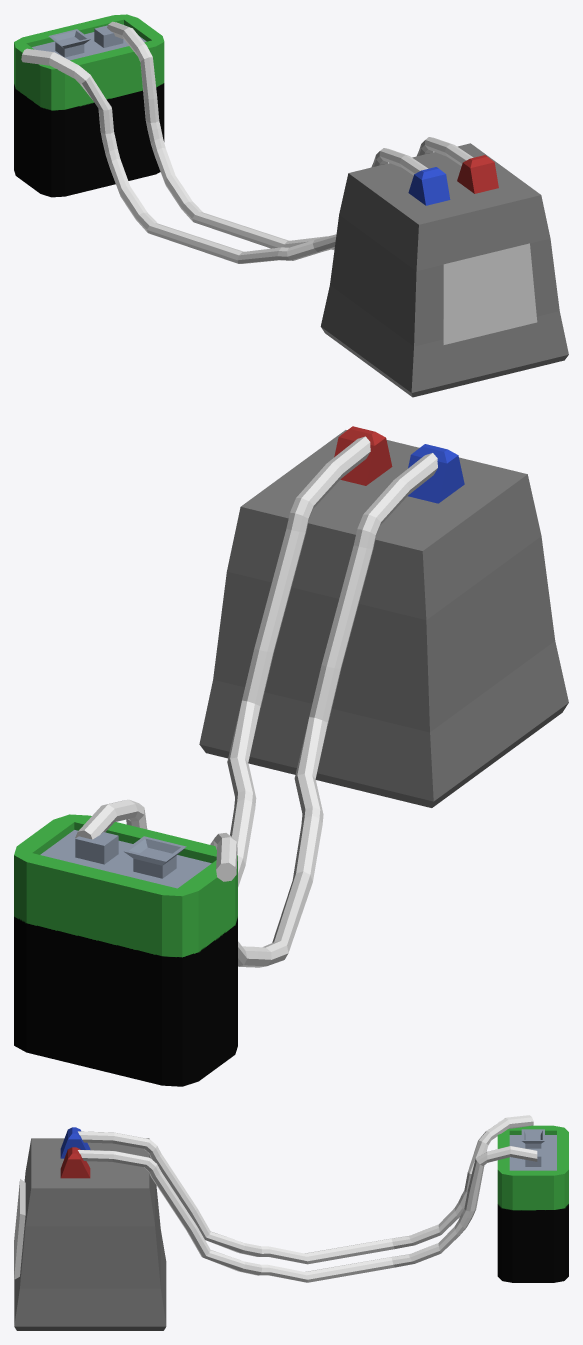
File: p1Open.fbx
The picture shows the model from 3 angles, top to bottom: view 1: azimuth 30°, elevation 25°; view 2: azimuth 150°, elevation 25°; view 3: azimuth 270°, elevation 25°; orthographic projection. The views are drawn at different scales.
Visible parts, largest first — view 1: Cube.001, Battery, Cylinder, Cylinder.001; view 2: Cube.001, Battery, Cylinder, Cylinder.001; view 3: Cube.001, Battery, Cylinder.001, Cylinder.
Part boxes in pixels (x1=…): Cube.001: x1=320, y1=143, x2=568, y2=397; Battery: x1=14, y1=14, x2=164, y2=197; Cylinder: x1=21, y1=48, x2=428, y2=263; Cylinder.001: x1=107, y1=21, x2=473, y2=249; Cube.001: x1=199, y1=426, x2=568, y2=807; Battery: x1=14, y1=814, x2=237, y2=1086; Cylinder: x1=210, y1=453, x2=437, y2=967; Cylinder.001: x1=75, y1=436, x2=370, y2=886; Cube.001: x1=14, y1=1127, x2=166, y2=1330; Battery: x1=497, y1=1125, x2=568, y2=1282; Cylinder.001: x1=78, y1=1146, x2=537, y2=1282; Cylinder: x1=78, y1=1115, x2=533, y2=1264.
Bounding box in the file's own units: 394 × 297 × 939.
